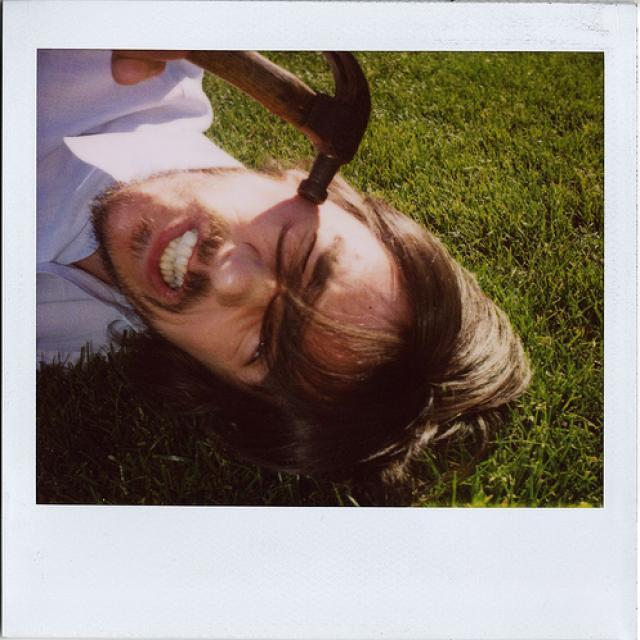hammer: (133, 0, 380, 212)
